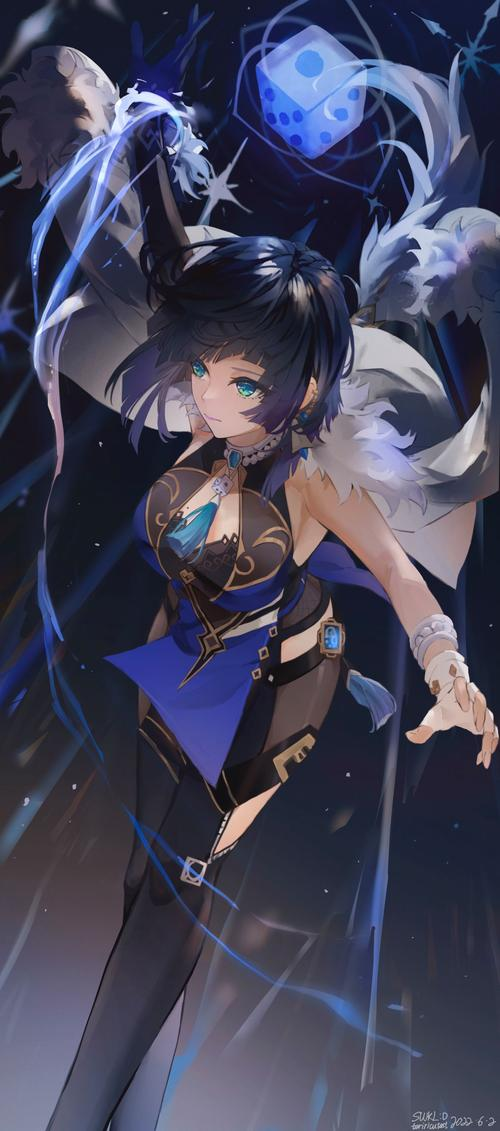夜兰: (32, 51, 495, 1129)
